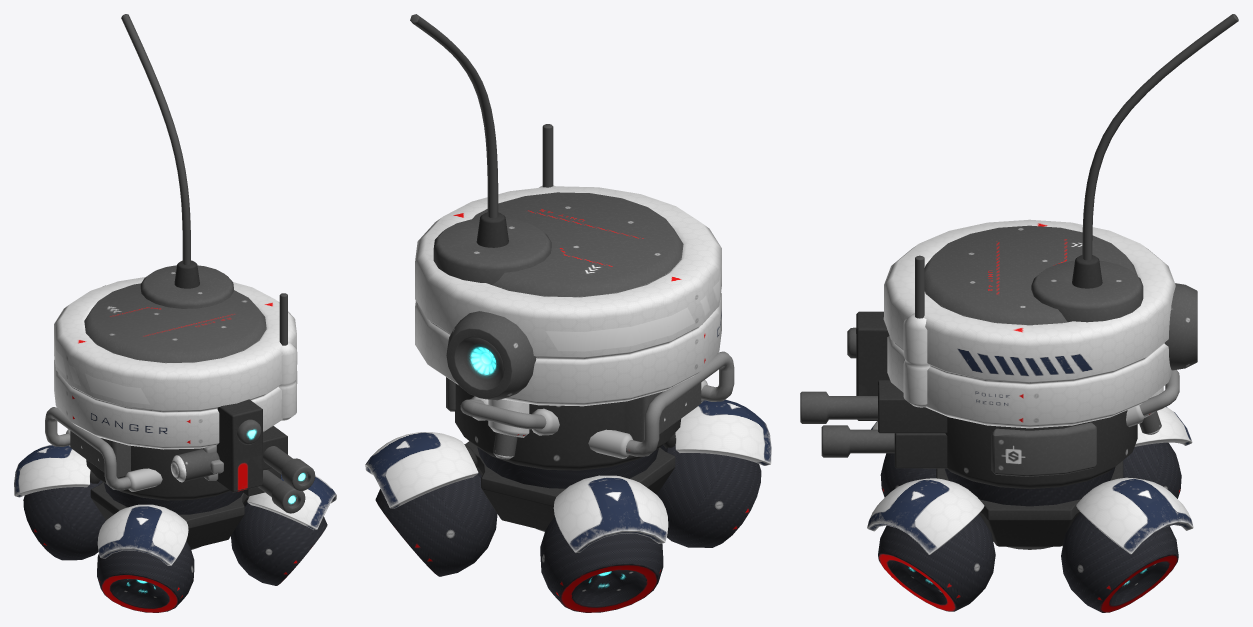
3 renders of one model, left to right at view 1: azimuth 30°, elevation 25°; view 2: azimuth 150°, elevation 25°; view 3: azimuth 270°, elevation 25°, orthographic. The views are drawn at different scales.
Parts seen in each view (by area): view 1: topbody_low, toppanel_low, thrusterpanel_low (×3), thruster_low3, thruster_low, thruster_low2, face_low, bodylow_low, toppanel2_low, Base_low, antennatwo_low, sidebaring_low (+11 smaller); view 2: topbody_low, thrusterpanel_low (×3), toppanel_low, thruster_low2, thruster_low3, thruster_low1, bodylow_low, rearThruster_low, toppanel2_low, Base_low, sidebaring_low, bottom2_low (+7 smaller); view 3: topbody_low, toppanel_low, thrusterpanel_low (×3), thruster_low1, thruster_low, bodylow_low, sidepanel_low, toppanel2_low, Base_low, antennatwo_low, face_low, bottom2_low (+11 smaller).
Boxes of the visible parts, bbox=[...] form: topbody_low: bbox=[54, 277, 297, 449]; toppanel_low: bbox=[84, 283, 266, 363]; thrusterpanel_low (×3): bbox=[14, 444, 336, 565]; thruster_low3: bbox=[97, 541, 194, 612]; thruster_low: bbox=[231, 501, 327, 585]; thruster_low2: bbox=[23, 480, 105, 560]; face_low: bbox=[217, 399, 262, 492]; bodylow_low: bbox=[86, 446, 230, 500]; toppanel2_low: bbox=[140, 265, 233, 308]; Base_low: bbox=[90, 482, 248, 548]; antennatwo_low: bbox=[121, 14, 190, 264]; sidebaring_low: bbox=[45, 407, 130, 490]; topbody_low: bbox=[415, 186, 721, 406]; thrusterpanel_low (×3): bbox=[365, 399, 771, 552]; toppanel_low: bbox=[472, 192, 683, 297]; thruster_low2: bbox=[540, 517, 663, 612]; thruster_low3: bbox=[657, 445, 761, 547]; thruster_low1: bbox=[375, 472, 497, 576]; bodylow_low: bbox=[455, 383, 680, 470]; rearThruster_low: bbox=[446, 311, 536, 400]; toppanel2_low: bbox=[433, 218, 551, 284]; Base_low: bbox=[465, 441, 675, 530]; sidebaring_low: bbox=[626, 351, 734, 456]; bottom2_low: bbox=[477, 447, 658, 488]; topbody_low: bbox=[883, 219, 1175, 428]; toppanel_low: bbox=[924, 225, 1137, 325]; thrusterpanel_low (×3): bbox=[867, 406, 1193, 554]; thruster_low1: bbox=[1061, 512, 1178, 612]; thruster_low: bbox=[878, 514, 995, 611]; bodylow_low: bbox=[945, 410, 1137, 489]; sidepanel_low: bbox=[991, 422, 1096, 476]; toppanel2_low: bbox=[1031, 260, 1143, 322]; Base_low: bbox=[936, 460, 1123, 546]; antennatwo_low: bbox=[1082, 14, 1238, 260]; face_low: bbox=[856, 311, 889, 420]; bottom2_low: bbox=[945, 467, 1115, 506].
Bounding box in the file's own units: 2.24 × 4.36 × 3.
1 material, 1 textured.
